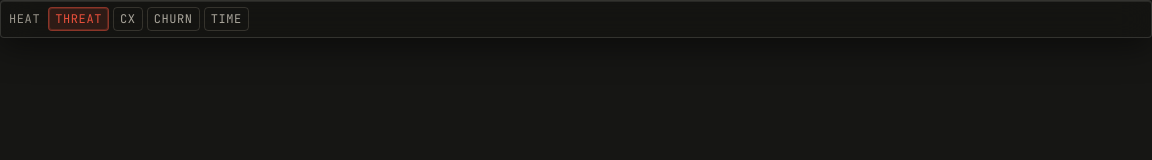
Test: the TIME channel and its field › the date field stands ONLY while TIME is picked — no fifth surface
Expected: the text "stood at" is not shown
What coordinates should you click on to do the following:
click the radio button labelled "TIME"
I would click on:
 (226, 19)
Its box is [204, 7, 249, 31].
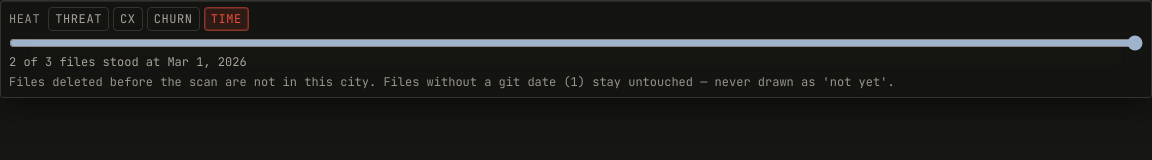
Expected: the slider named "Date of the city census, currently Mar 1, 2026" is shown, [9, 35, 1143, 51]
What coordinates should you click on to do the following:
click the radio button labelled "CHURN"
I would click on:
 (173, 19)
Its box is [147, 7, 200, 31].
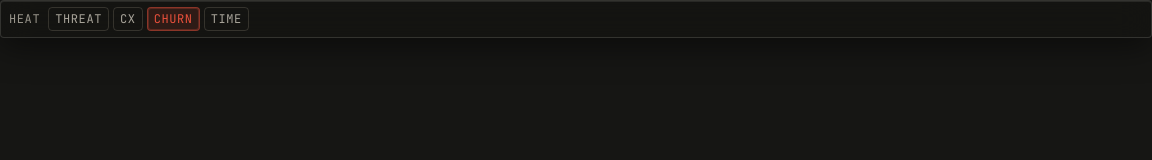
Expected: the slider is gone
